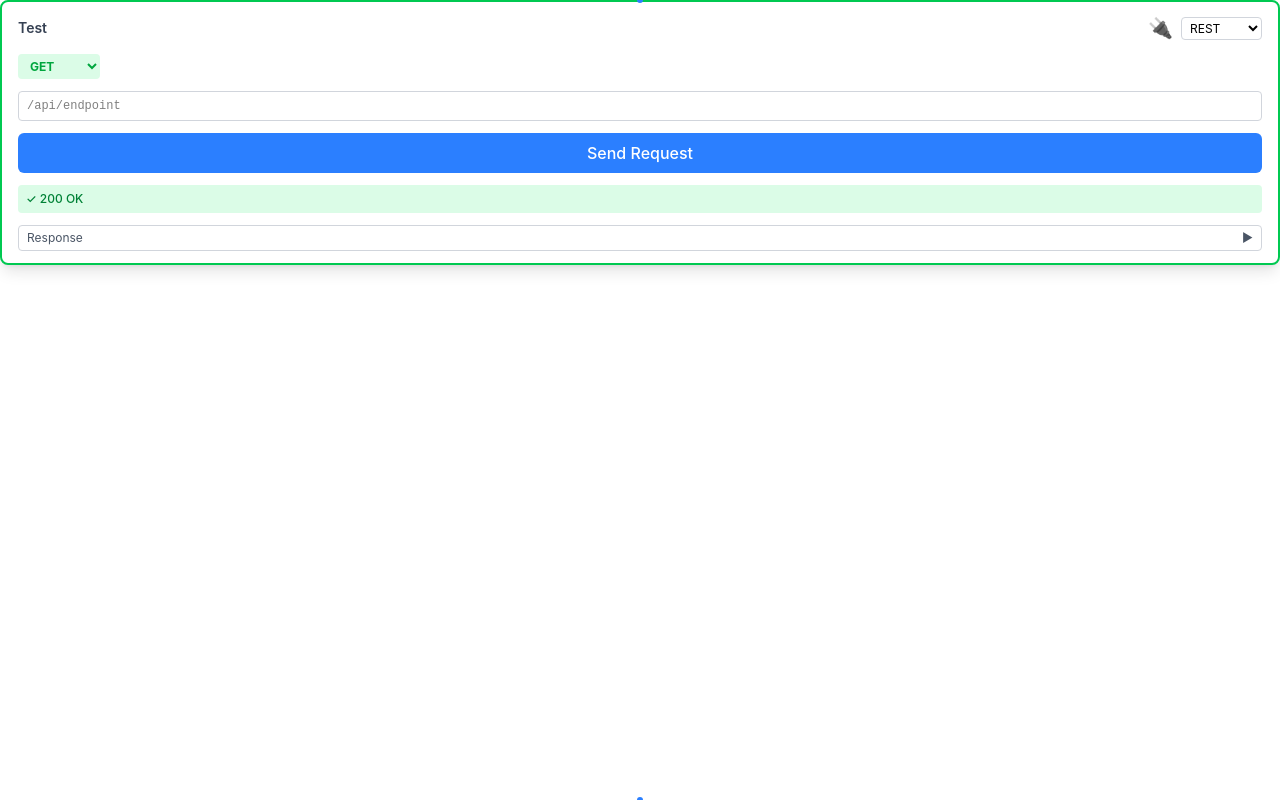
Test: IntegrationNode › toggles response preview
The image size is (1280, 800).
Expected: the text "{\"status\": \"ok\"}" is not shown
Click the text "Response" at (55, 238), box [27,230,83,246]
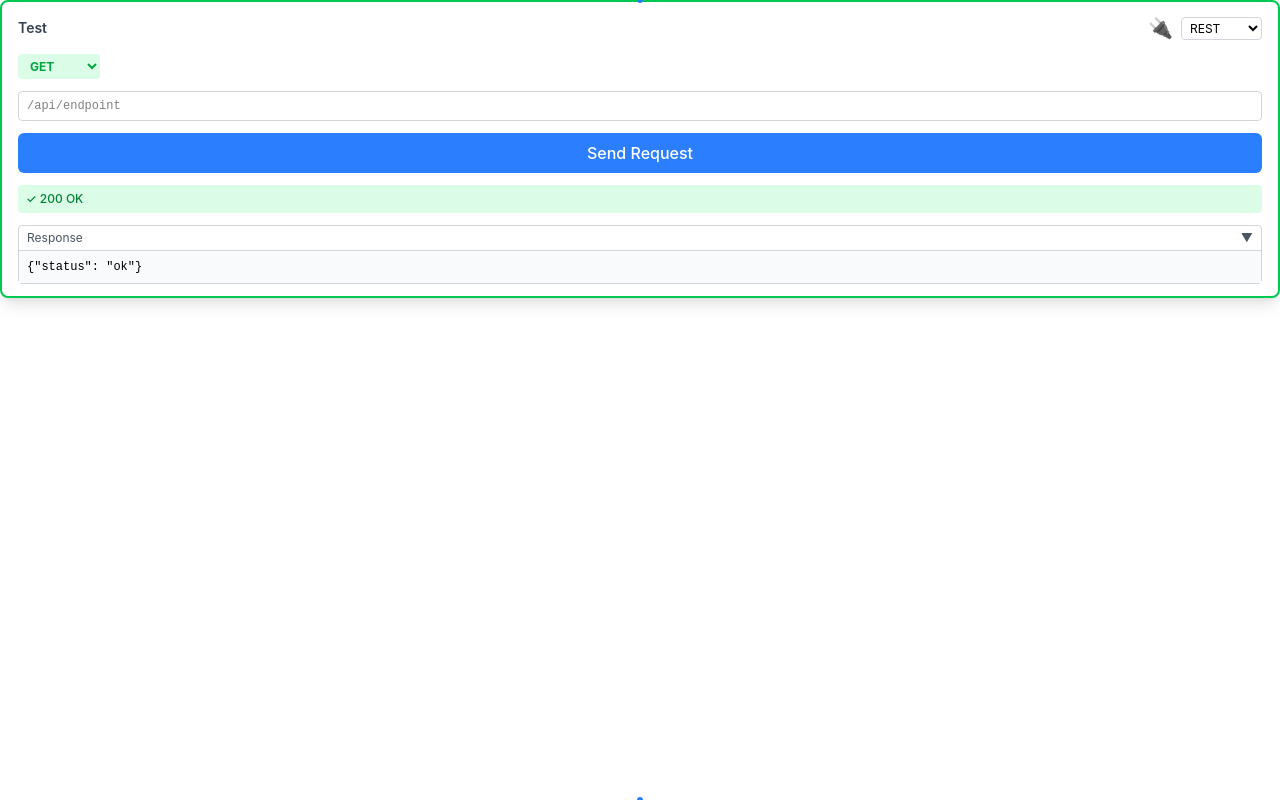
Expected: the text "{\"status\": \"ok\"}" is shown, [19,250,1261,283]
Click the text "Response" at (55, 238), box [27,230,83,246]
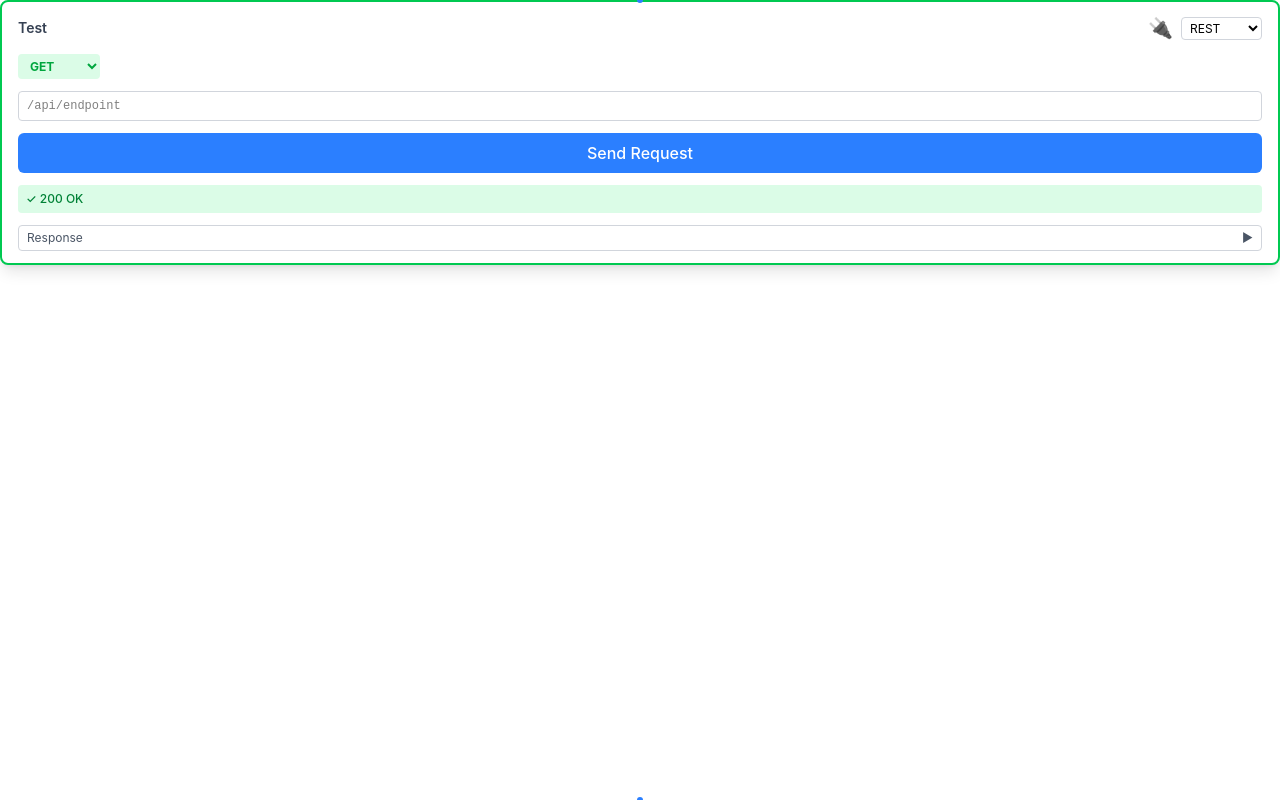
Expected: the text "{\"status\": \"ok\"}" is gone
